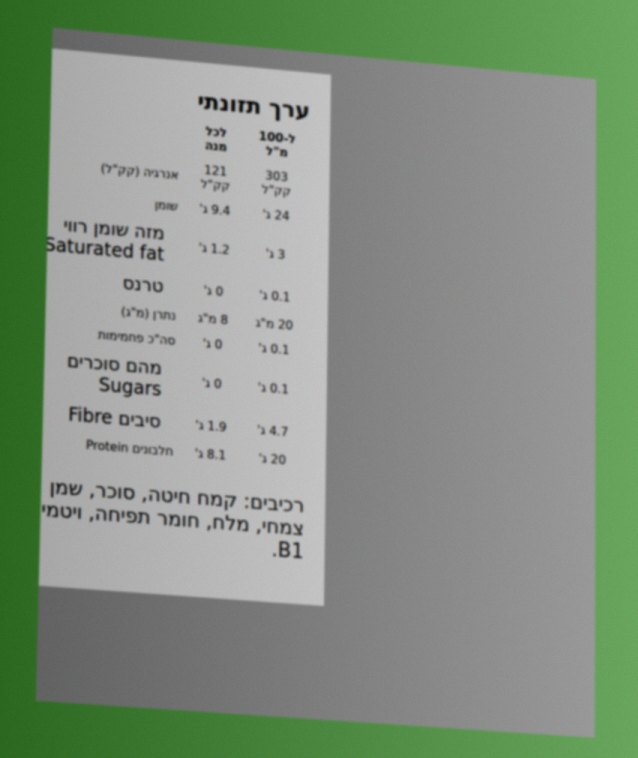carbs: (256, 338, 292, 359)
energy: (258, 164, 295, 203)
fat: (260, 205, 292, 225)
protein: (256, 449, 288, 469)
